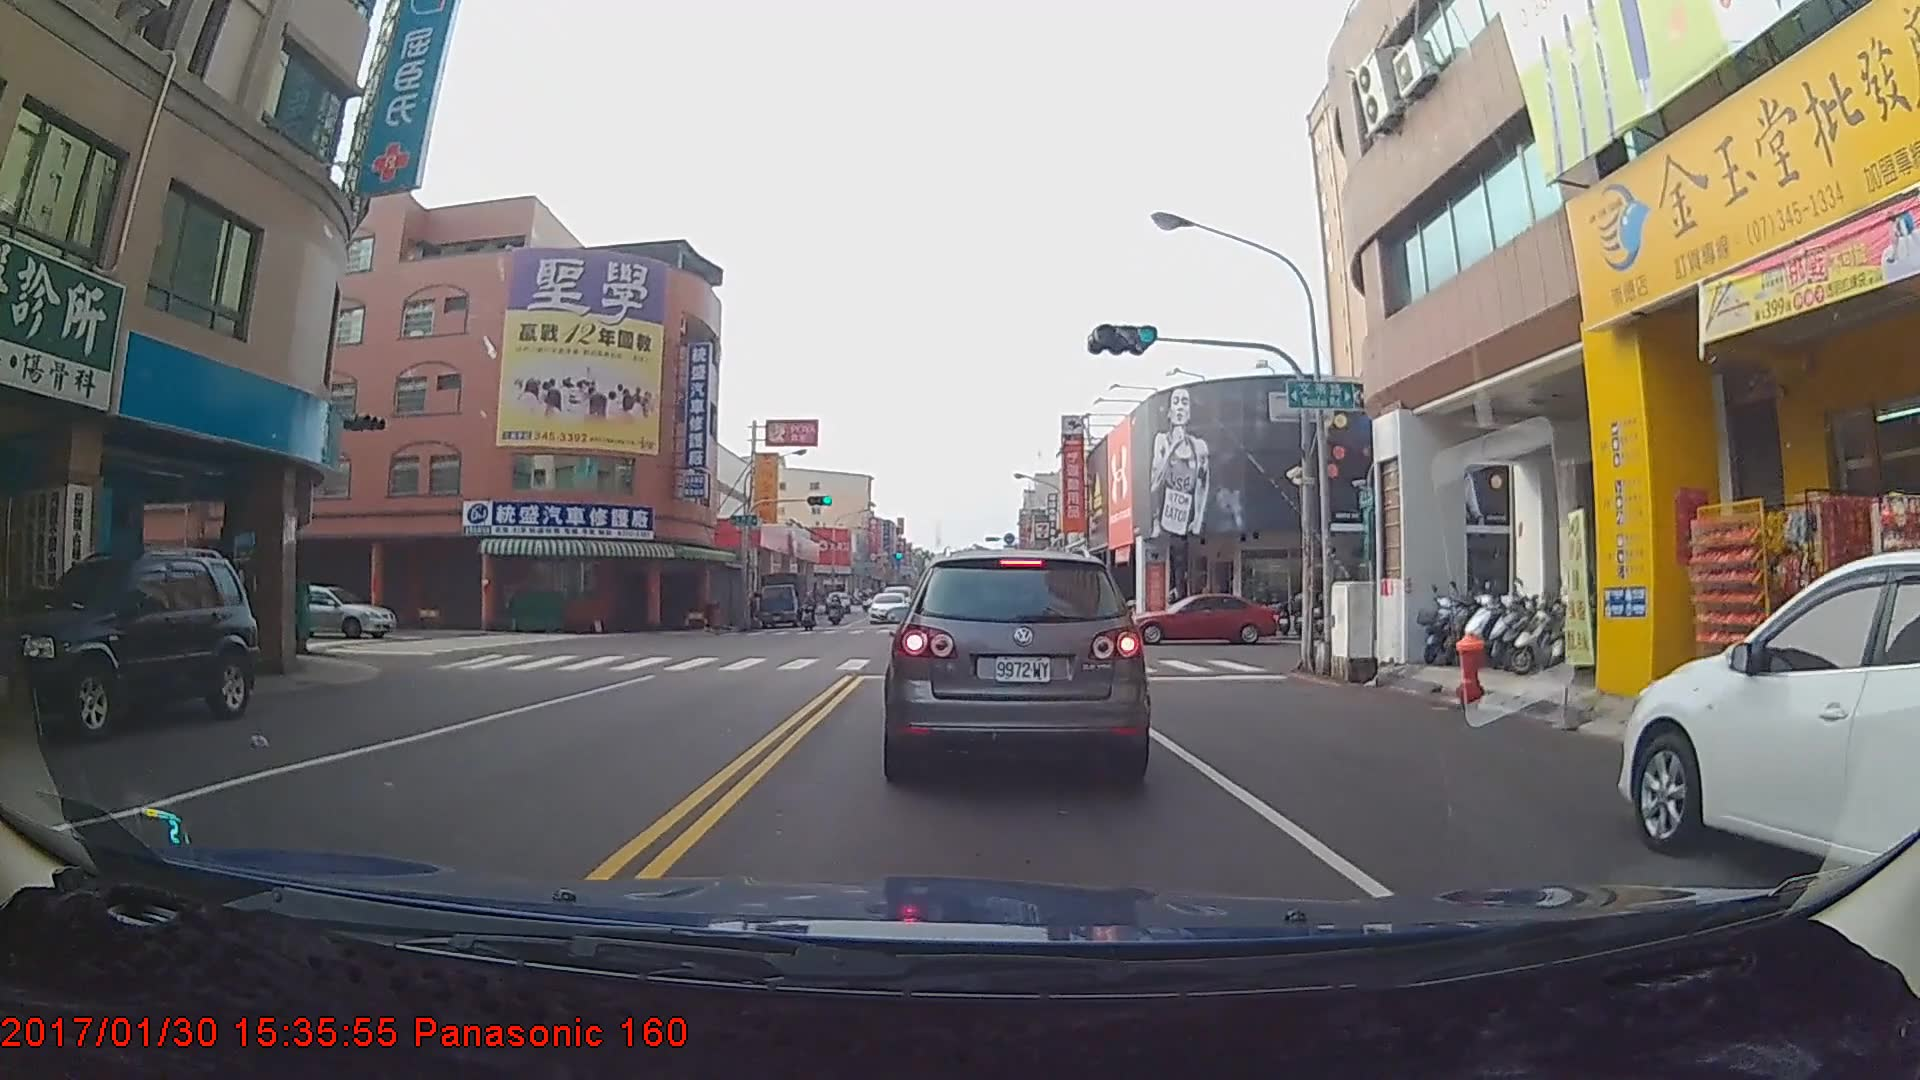rider: (794, 590, 822, 632), (828, 593, 850, 630)
vehicle: (1622, 543, 1920, 932), (888, 546, 1143, 780), (0, 546, 259, 740), (1120, 590, 1277, 643), (257, 578, 401, 632), (756, 573, 811, 631), (865, 591, 908, 626)
